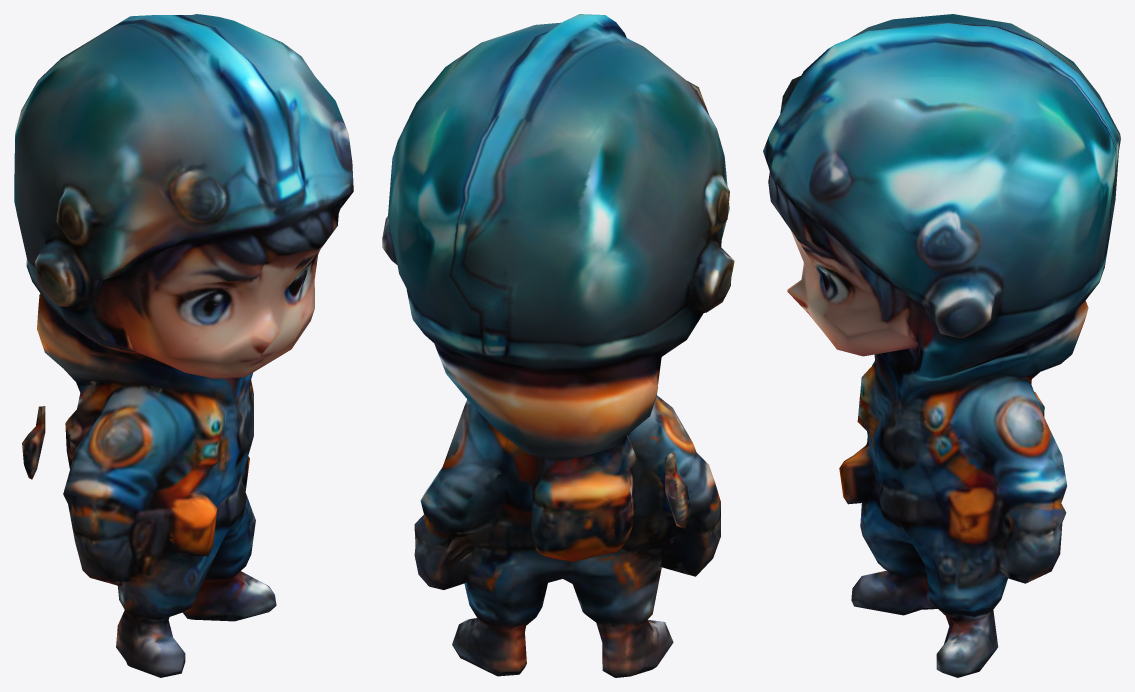
Rendered from robot_kid.glb.
The picture shows the model from 3 angles, left to right: view 1: azimuth 30°, elevation 25°; view 2: azimuth 150°, elevation 25°; view 3: azimuth 270°, elevation 25°; orthographic projection. The views are drawn at different scales.
Visible parts, largest first — view 1: ProcessedMeshNode_LOD1; view 2: ProcessedMeshNode_LOD1; view 3: ProcessedMeshNode_LOD1.
Part boxes in pixels (x1,y1,x2,y2): ProcessedMeshNode_LOD1: [14, 14, 353, 677]; ProcessedMeshNode_LOD1: [382, 14, 734, 677]; ProcessedMeshNode_LOD1: [763, 14, 1120, 677].
Size of the model in its own units: 0.4997 by 0.9392 by 0.4973.
1 material, 1 textured.
